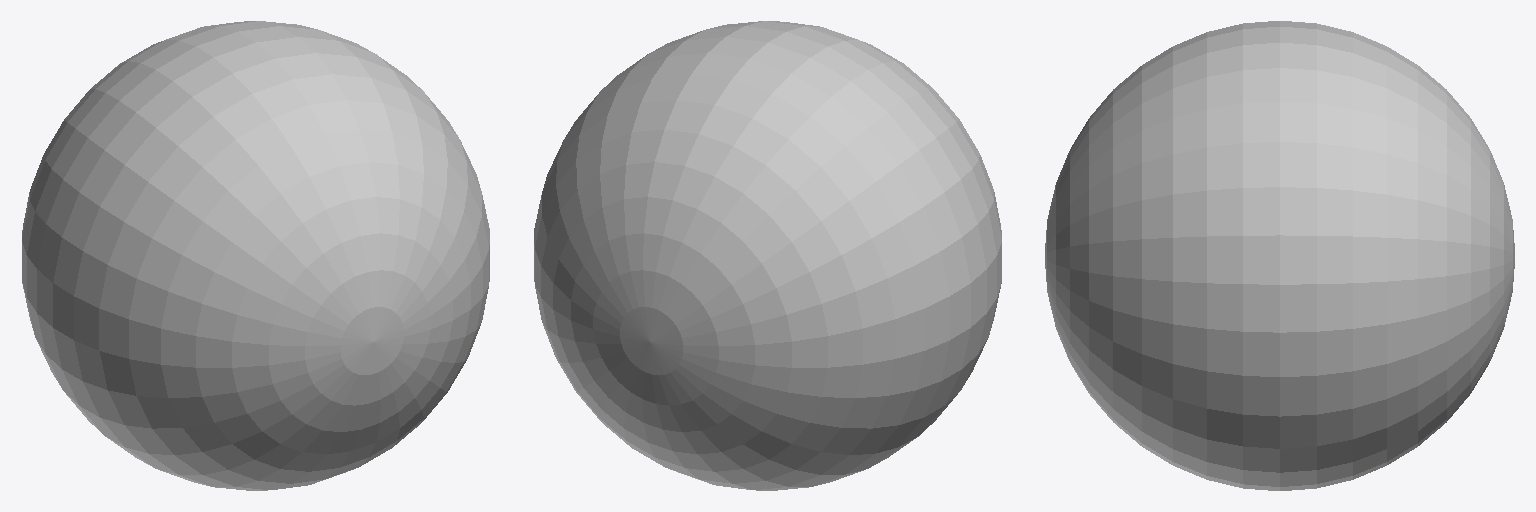
3 renders of one model, left to right at view 1: azimuth 30°, elevation 25°; view 2: azimuth 150°, elevation 25°; view 3: azimuth 270°, elevation 25°, orthographic.
Parts seen in each view (by area): view 1: objtest:Mesh; view 2: objtest:Mesh; view 3: objtest:Mesh.
Boxes of the visible parts, x1,y1,x2,y2 form: objtest:Mesh: [22, 21, 489, 490]; objtest:Mesh: [534, 21, 1001, 490]; objtest:Mesh: [1045, 21, 1514, 490].
Bounding box in the file's own units: 0.9945 × 1 × 1.